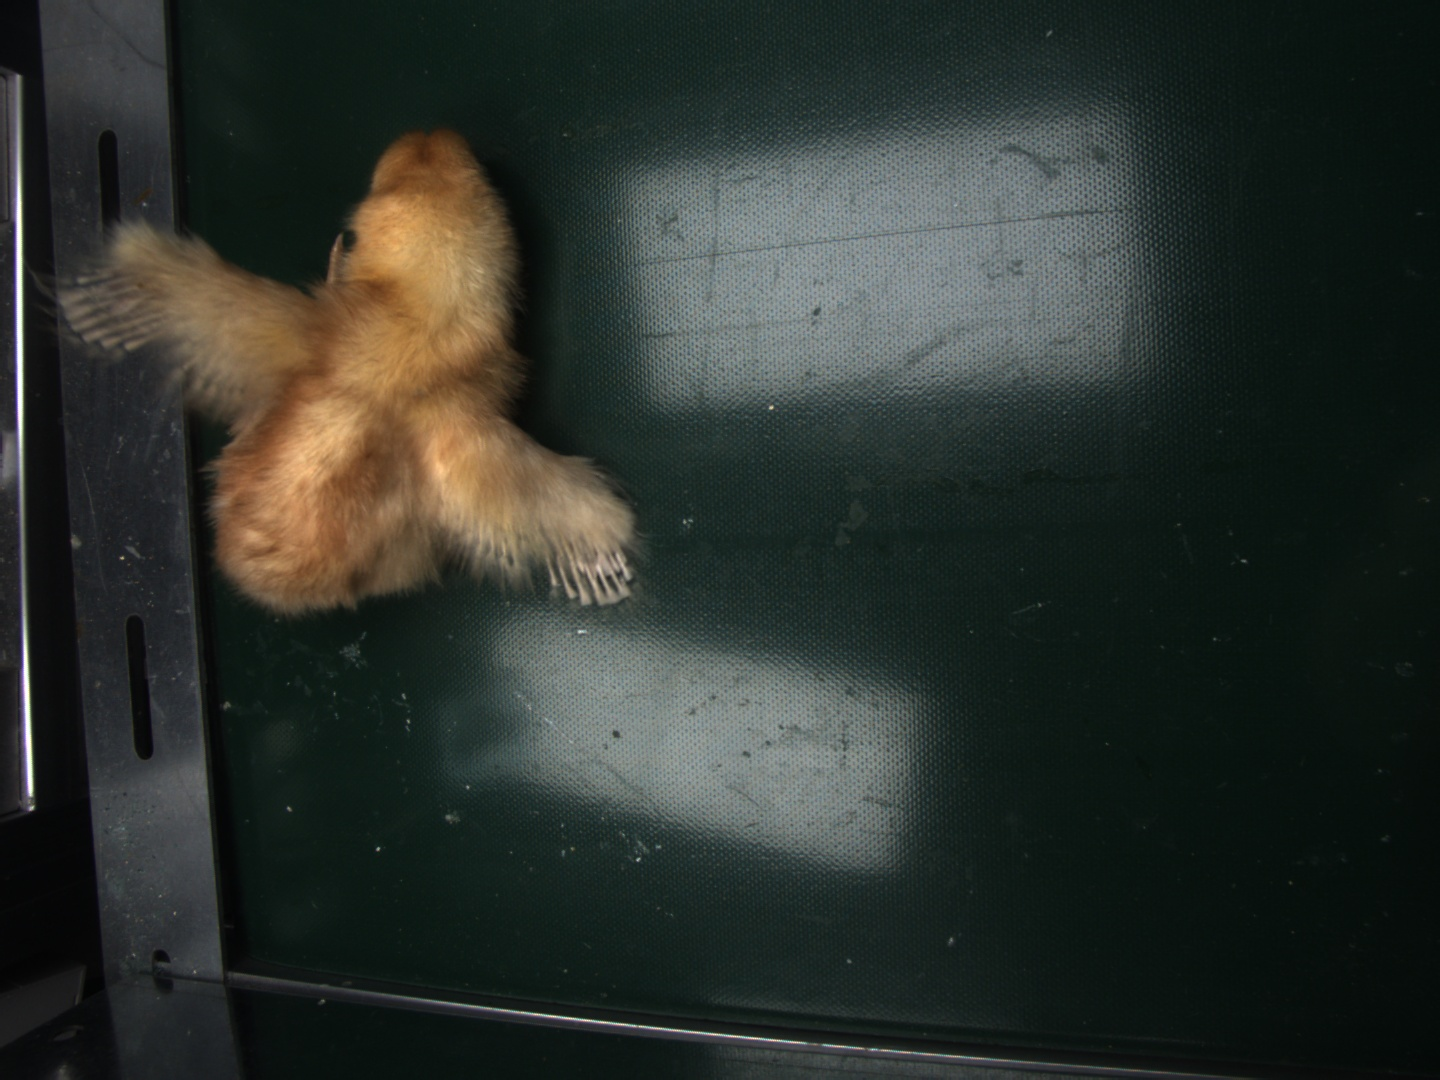female: (545, 535, 636, 605)
